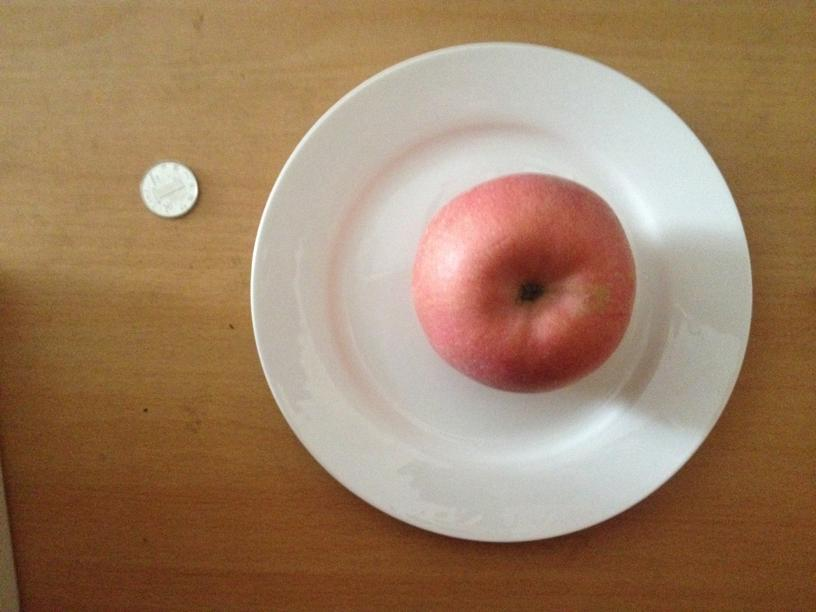apple: (413, 173, 636, 395)
coin: (141, 161, 199, 217)
